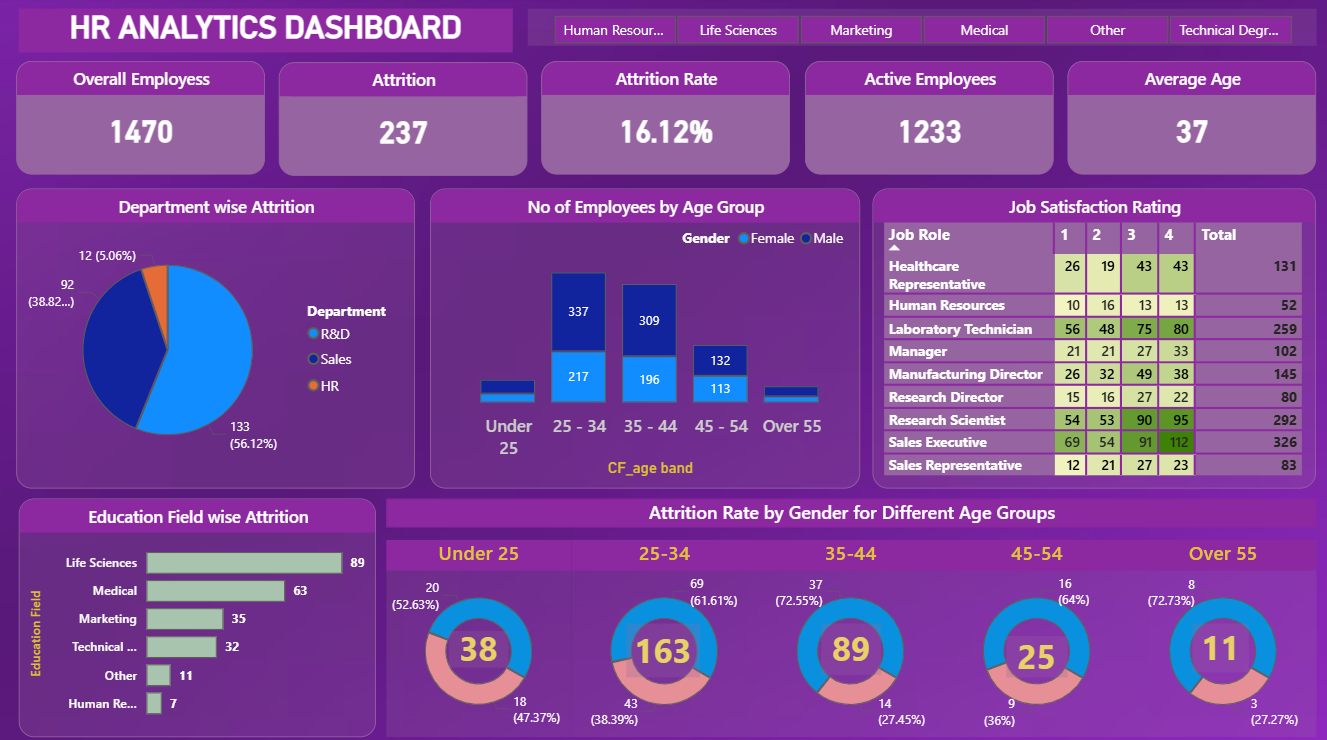

This screenshot's page, from the dashboard's own definition file:
{"tool":"powerbi","page":{"name":"Page 1","canvas":[1280,720],"ordinal":0},"visuals":[{"type":"card","title":"Overall Employess","fields":{"Values":["Sum(HR data.Employee Count)"]},"box":[15.7,62.7,240.1,109.8],"z":0},{"type":"card","title":"Attrition","fields":{"Values":["Sum(HR data.Attrition Count)"]},"box":[269,63.9,240.1,109.8],"z":1000},{"type":"card","title":"Attrition Rate","fields":{"Values":["HR data.Attrition Rate"]},"box":[523,62.7,240.1,109.8],"z":2000},{"type":"card","title":"Active Employees","fields":{"Values":["HR data.Active Employees"]},"box":[776.6,62.7,240.1,109.8],"z":3000},{"type":"card","title":"Average Age","fields":{"Values":["Avg(HR data.Age)"]},"box":[1030.3,62.7,240.1,109.8],"z":4000},{"type":"pieChart","title":"Department wise Attrition","fields":{"Category":["HR data.Department"],"Y":["Sum(HR data.Attrition Count)"]},"box":[15.7,185.8,384.9,289.5],"z":5000},{"type":"columnChart","title":"No of Employees by Age Group","fields":{"Category":["HR data.CF_age band"],"Y":["Sum(HR data.Employee Count)"],"Series":["HR data.Gender"]},"box":[415,185.8,415,289.5],"z":6000},{"type":"pivotTable","title":"Job Satisfaction Rating","fields":{"Rows":["HR data.Job Role"],"Columns":["HR data.Job Satisfaction"],"Values":["Sum(HR data.Employee Count)"]},"box":[842.1,185.8,428.3,289.5],"z":7000},{"type":"barChart","title":"Education Field wise Attrition","fields":{"Category":["HR data.Education Field"],"Y":["Sum(HR data.Attrition Count)"]},"box":[18.1,485,345,230.4],"z":8000},{"type":"donutChart","title":"Under 25","fields":{"Category":["HR data.Gender"],"Y":["Sum(HR data.Attrition Count)"],"Series":["HR data.CF_age band"]},"box":[372.8,524.8,178.6,190.6],"z":9000},{"type":"textbox","title":"Attrition Rate by Gender for Different Age Groups","box":[372.8,485,897.6,27.7],"z":10000},{"type":"donutChart","title":"25-34","fields":{"Category":["HR data.Gender"],"Y":["Sum(HR data.Attrition Count)"],"Series":["HR data.CF_age band"]},"box":[551.3,524.8,179.8,190.6],"z":11000},{"type":"donutChart","title":"35-44","fields":{"Category":["HR data.Gender"],"Y":["Sum(HR data.Attrition Count)"],"Series":["HR data.CF_age band"]},"box":[731.1,524.8,179.8,190.6],"z":12000},{"type":"donutChart","title":"45-54","fields":{"Category":["HR data.Gender"],"Y":["Sum(HR data.Attrition Count)"],"Series":["HR data.CF_age band"]},"box":[910.9,524.8,179.8,190.6],"z":13000},{"type":"donutChart","title":"Over 55","fields":{"Category":["HR data.Gender"],"Y":["Sum(HR data.Attrition Count)"],"Series":["HR data.CF_age band"]},"box":[1090.6,524.8,179.8,190.6],"z":14000},{"type":"card","fields":{"Values":["Sum(HR data.Attrition Count)"]},"box":[433.1,612.9,57.9,35],"z":15000},{"type":"card","fields":{"Values":["Sum(HR data.Attrition Count)"]},"box":[604.4,605.6,71.2,51.9],"z":16000},{"type":"card","fields":{"Values":["Sum(HR data.Attrition Count)"]},"box":[792.6,605.6,57.9,49.5],"z":17000},{"type":"card","fields":{"Values":["Sum(HR data.Attrition Count)"]},"box":[971.2,617.7,59.1,39.8],"z":18000},{"type":"card","fields":{"Values":["Sum(HR data.Attrition Count)"]},"box":[1150.9,605.6,54.3,47.1],"z":19000},{"type":"textbox","title":"HR ANALYTICS DASHBOARD","box":[18.1,12.1,476.5,42.2],"z":20000},{"type":"slicer","fields":{"Values":["HR data.Education Field"]},"box":[509.1,12.1,761.3,36.2],"z":21000}]}

Visuals, with their boxes in screenshot pixels (x1, y1, x2, y2), scaled from the page's 1280x720 canvas onto the 1327x740 screenshot:
"Overall Employess" card: (16, 64, 265, 177)
"Attrition" card: (279, 66, 528, 179)
"Attrition Rate" card: (542, 64, 791, 177)
"Active Employees" card: (805, 64, 1054, 177)
"Average Age" card: (1068, 64, 1317, 177)
"Department wise Attrition" pieChart: (16, 191, 415, 489)
"No of Employees by Age Group" columnChart: (430, 191, 860, 489)
"Job Satisfaction Rating" pivotTable: (873, 191, 1317, 489)
"Education Field wise Attrition" barChart: (19, 498, 376, 735)
"Under 25" donutChart: (386, 539, 572, 735)
"Attrition Rate by Gender for Different Age Groups" textbox: (386, 498, 1317, 527)
"25-34" donutChart: (572, 539, 758, 735)
"35-44" donutChart: (758, 539, 944, 735)
"45-54" donutChart: (944, 539, 1131, 735)
"Over 55" donutChart: (1131, 539, 1317, 735)
card - Sum(HR data.Attrition Count): (449, 630, 509, 666)
card - Sum(HR data.Attrition Count): (627, 622, 700, 676)
card - Sum(HR data.Attrition Count): (822, 622, 882, 673)
card - Sum(HR data.Attrition Count): (1007, 635, 1068, 676)
card - Sum(HR data.Attrition Count): (1193, 622, 1249, 671)
"HR ANALYTICS DASHBOARD" textbox: (19, 12, 513, 56)
slicer - HR data.Education Field: (528, 12, 1317, 50)
